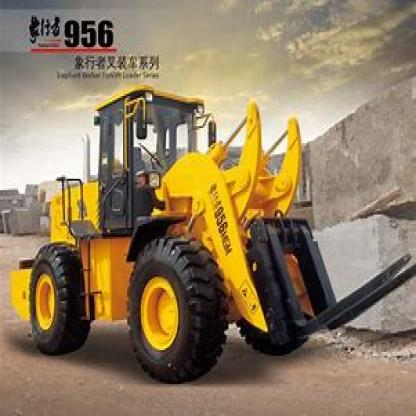bull_dozer/loader/grader: (4, 79, 325, 386)
